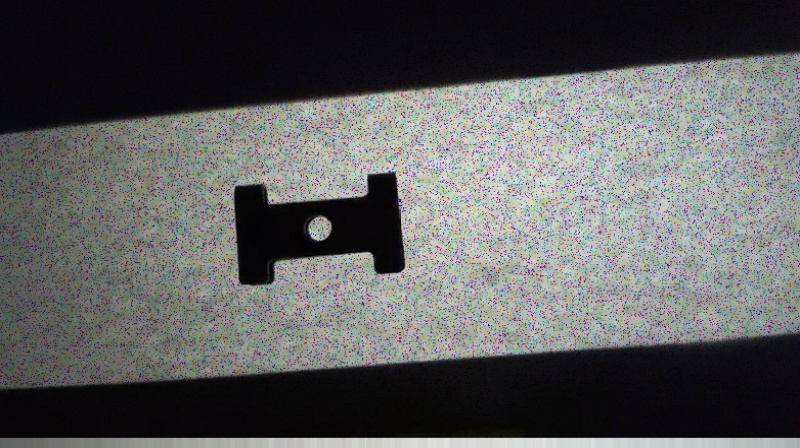O002: (226, 167, 408, 290)
